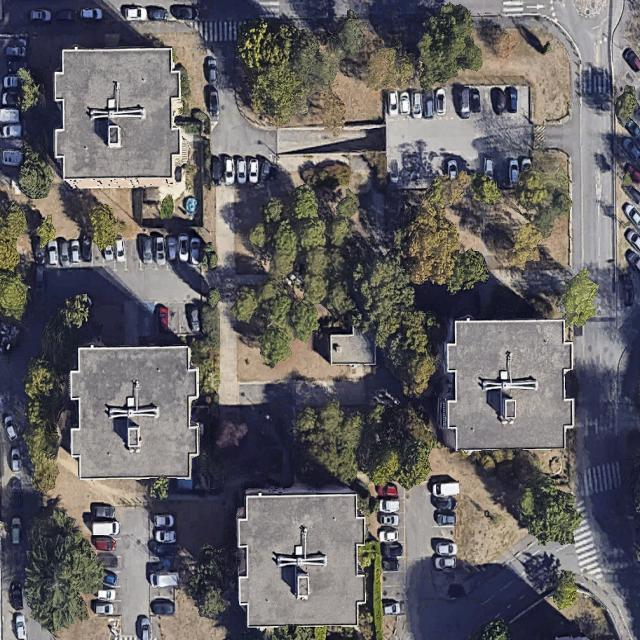immeuble: (54, 47, 182, 188), (237, 493, 366, 626), (69, 347, 199, 478), (443, 319, 573, 450)
